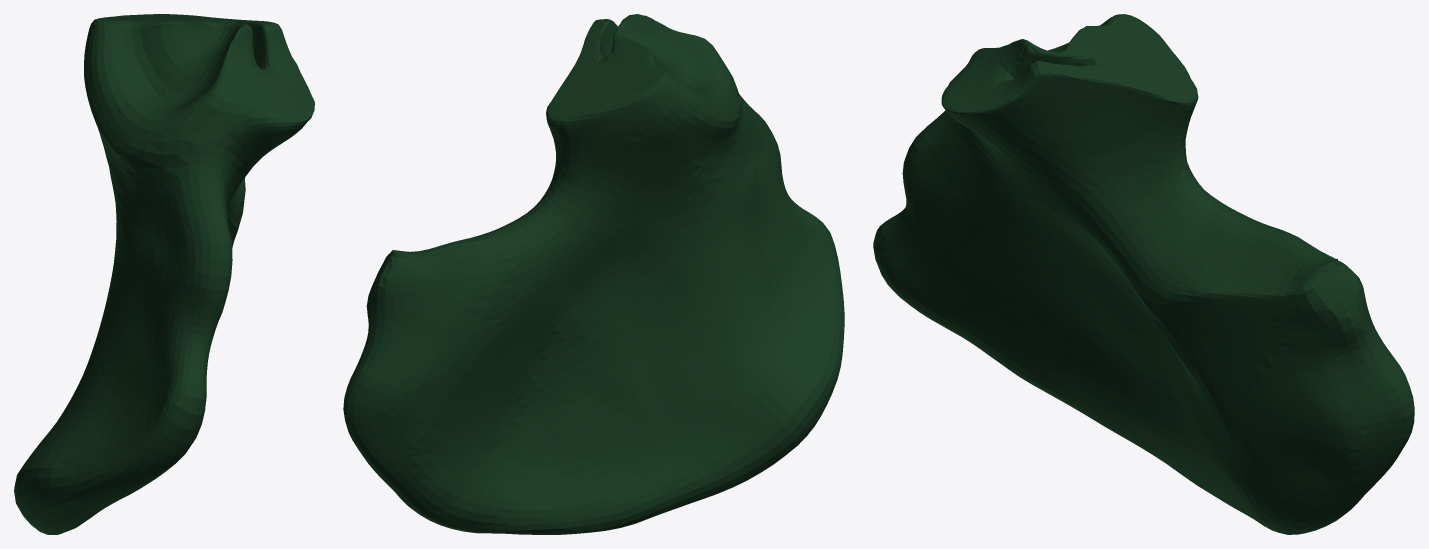
File: leftPelvis3Model.obj
3 renders of one model, left to right at view 1: azimuth 30°, elevation 25°; view 2: azimuth 150°, elevation 25°; view 3: azimuth 270°, elevation 25°, orthographic. The views are drawn at different scales.
Visible parts, largest first — view 1: grp1; view 2: grp1; view 3: grp1.
Part boxes in pixels (<box>): grp1: <box>14,14,314,534</box>; grp1: <box>343,14,844,534</box>; grp1: <box>873,14,1414,534</box>.
Bounding box in the file's own units: 105 × 144 × 149.
